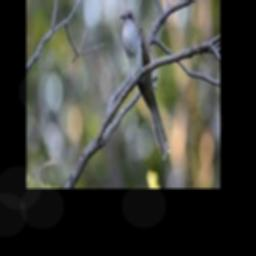Cuckoo: (119, 8, 170, 159)
